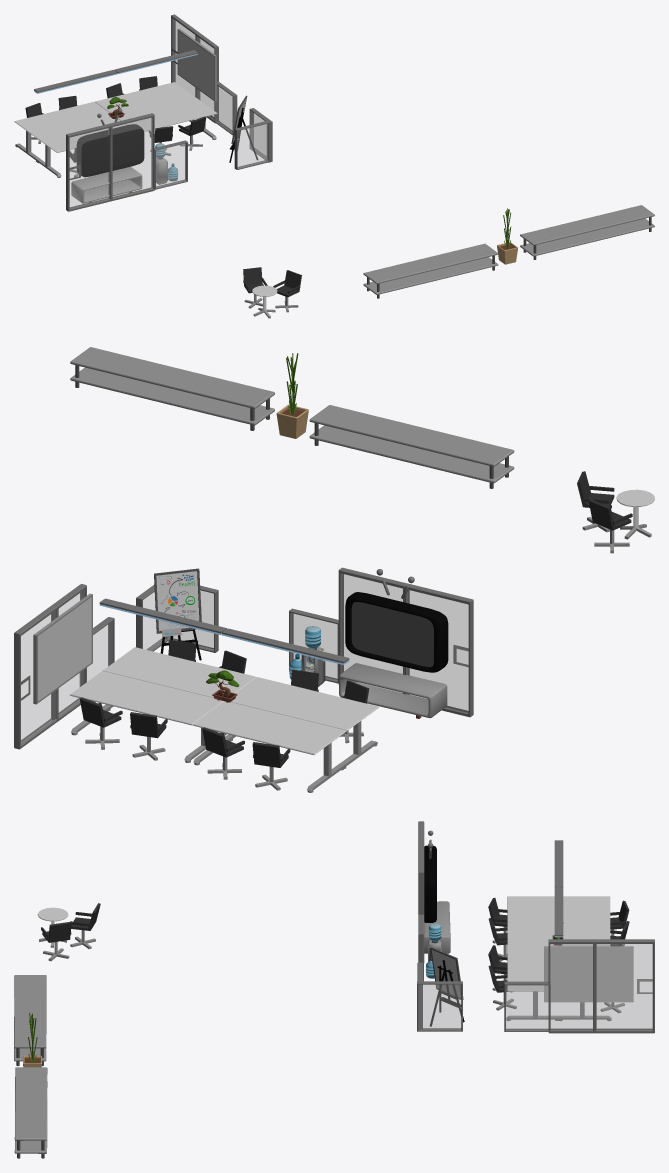
The model's file is d-roomcomp-l-conferenceroom-in.glb.
3 views of the same model, one above another, from view 1: azimuth 30°, elevation 25°; view 2: azimuth 150°, elevation 25°; view 3: azimuth 270°, elevation 25° (orthographic). The views are drawn at different scales.
Parts seen in each view (by area): view 1: building_office.046, desk.011, desk.009, desk.010, building_office.047, desk.008; view 2: building_office.046, desk.011, desk.010, desk.008, desk.009, building_office.047, pictureEaselDiagramNotes.002; view 3: building_office.046, building_office.047, desk.008, desk.009, desk.011, pictureEaselDiagramNotes.002, desk.010.
Part boxes in pixels (x1,y1,x2,y2): building_office.046: (66, 14, 654, 318); desk.011: (14, 70, 117, 161); desk.009: (114, 50, 217, 157); desk.010: (95, 51, 197, 122); building_office.047: (177, 28, 216, 101); desk.008: (34, 69, 125, 177); building_office.046: (14, 347, 654, 749); desk.011: (192, 628, 349, 792); desk.010: (70, 598, 226, 762); desk.008: (222, 629, 379, 768); desk.009: (99, 599, 256, 735); building_office.047: (33, 593, 92, 704); pictureEaselDiagramNotes.002: (154, 568, 201, 660); building_office.046: (14, 821, 654, 1158); building_office.047: (544, 946, 633, 1002); desk.008: (488, 840, 563, 961); desk.009: (488, 888, 563, 1020); desk.011: (554, 840, 629, 946); pictureEaselDiagramNotes.002: (430, 947, 464, 1026); desk.010: (554, 887, 624, 1021).
Size of the model in its own units: 19.22 by 3.85 by 21.07.
4 materials, 3 textured.
